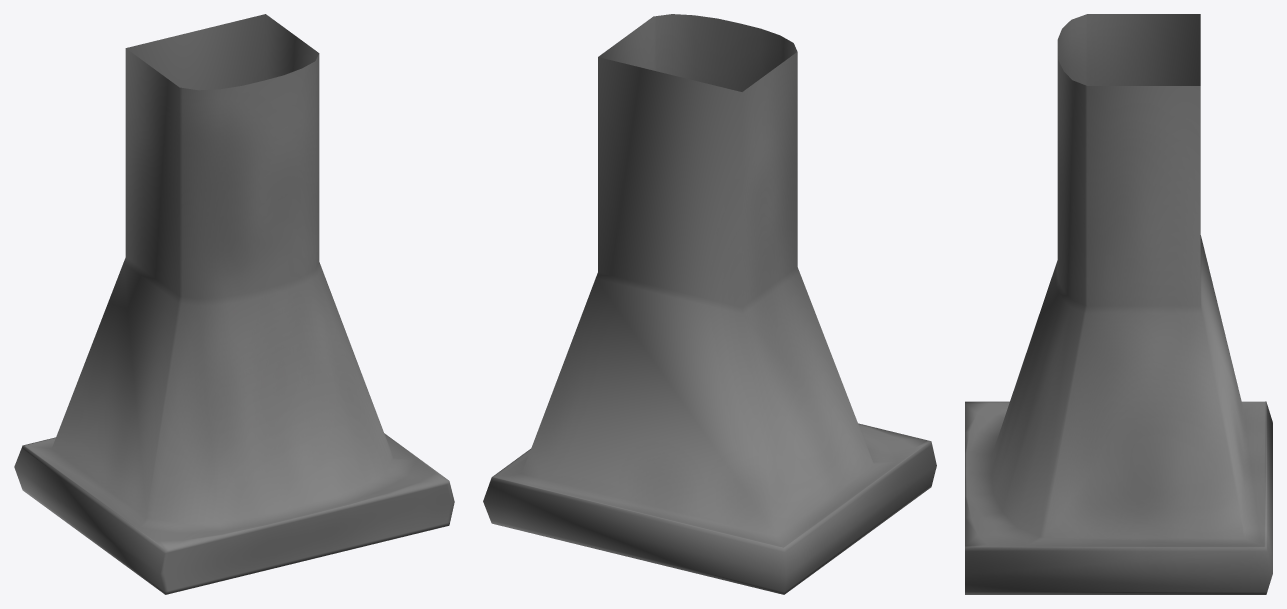
The model's file is cappa.FBX.
3 views of the same model, side by side, from view 1: azimuth 30°, elevation 25°; view 2: azimuth 150°, elevation 25°; view 3: azimuth 270°, elevation 25° (orthographic). The views are drawn at different scales.
Parts seen in each view (by area): view 1: cappa; view 2: cappa; view 3: cappa.
Part boxes in pixels (x1,y1,x2,y2): cappa: [14, 14, 454, 594]; cappa: [483, 14, 936, 594]; cappa: [965, 14, 1272, 594].
Bounding box in the file's own units: 0.737 × 1.07 × 0.6324.
